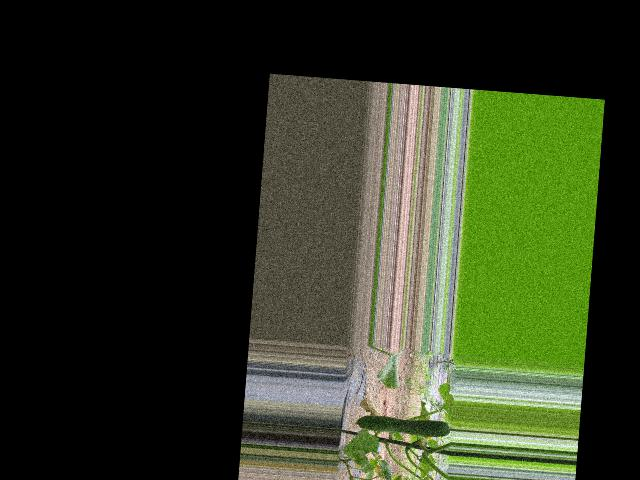cucumber: (353, 413, 450, 438)
